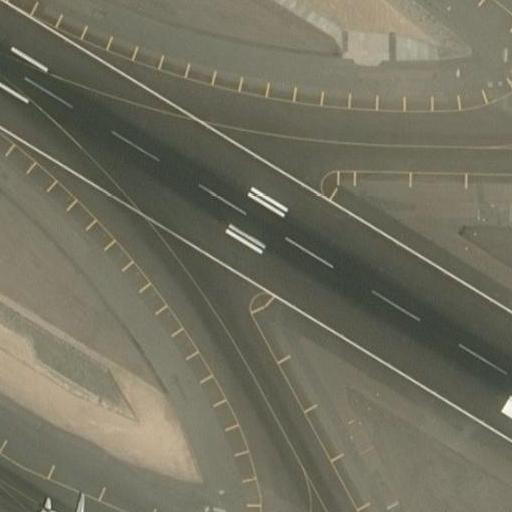Aircraft: (29, 484, 109, 512)
